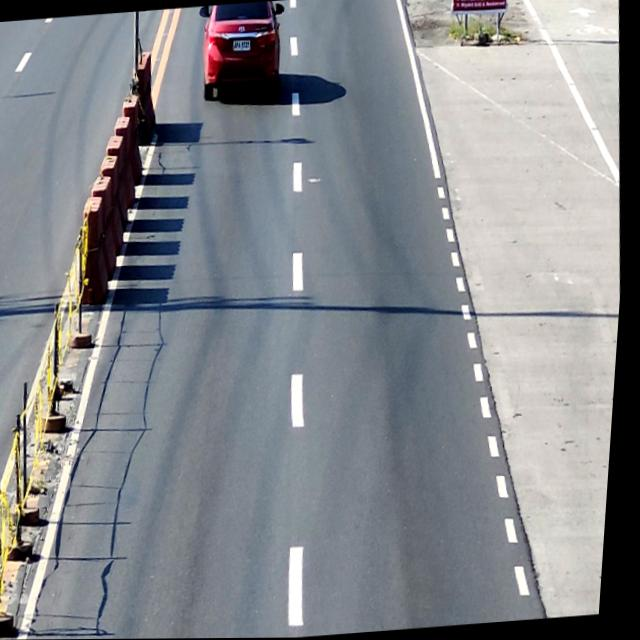Car: (193, 0, 290, 101)
License-Plate: (232, 38, 251, 51)
